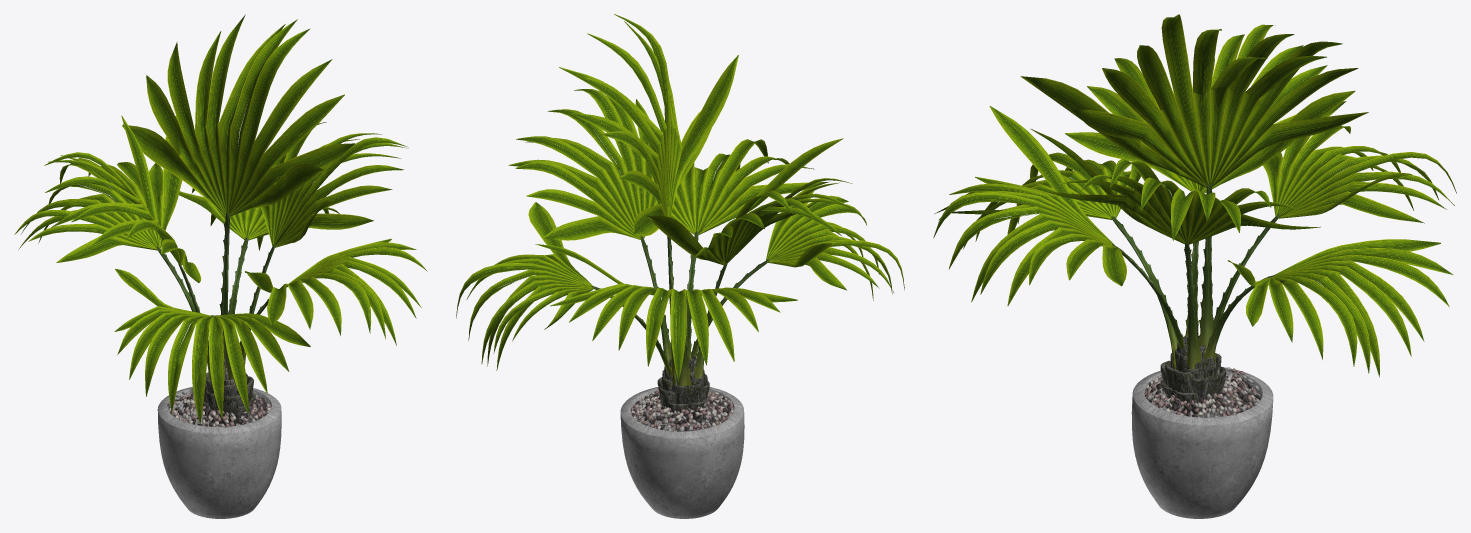
File: plant_11.glb
The picture shows the model from 3 angles, left to right: view 1: azimuth 30°, elevation 25°; view 2: azimuth 150°, elevation 25°; view 3: azimuth 270°, elevation 25°; orthographic projection. The views are drawn at different scales.
Visible parts, largest first — view 1: Plants_VOL01_11; view 2: Plants_VOL01_11; view 3: Plants_VOL01_11.
Boxes of the visible parts, x1,y1,x2,y2 form: Plants_VOL01_11: (14, 14, 427, 518); Plants_VOL01_11: (456, 14, 904, 518); Plants_VOL01_11: (933, 14, 1456, 518).
Size of the model in its own units: 0.6992 by 0.9256 by 0.8305.
Materials: 9 (4 with a texture image).
